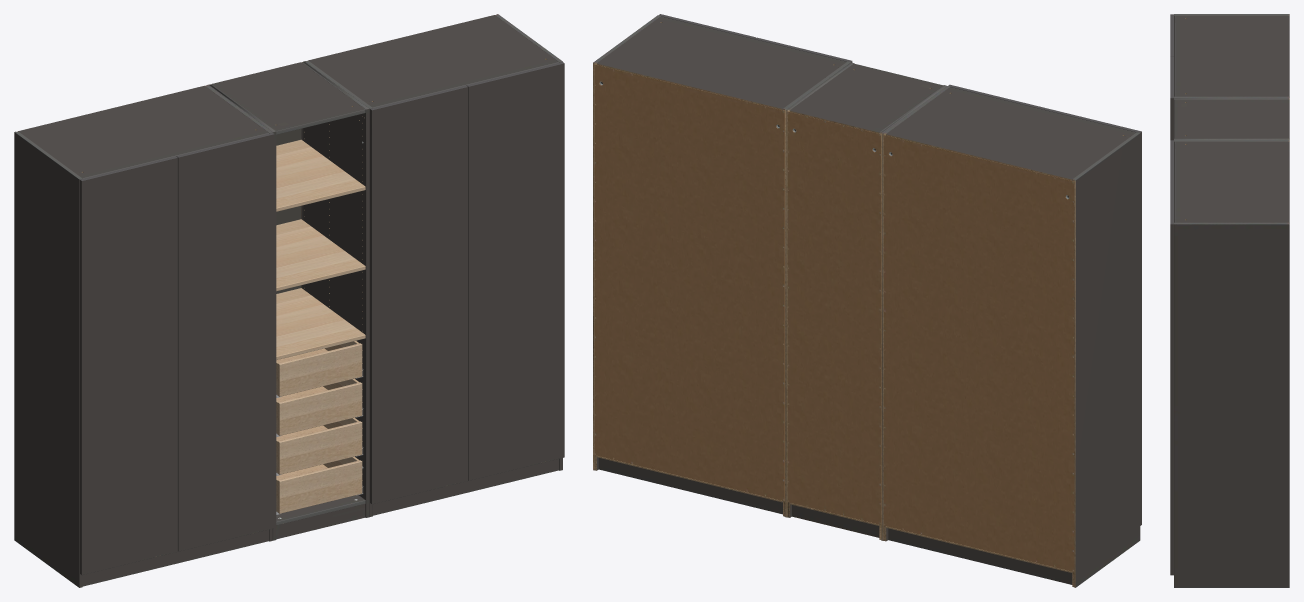
Rendered from 29 - PAX FORSAND Wardrobe combination - dark greywhite stained oak effect dark grey 250x60x201 cm.glb.
The picture shows the model from 3 angles, left to right: view 1: azimuth 30°, elevation 25°; view 2: azimuth 150°, elevation 25°; view 3: azimuth 270°, elevation 25°; orthographic projection. The views are drawn at different scales.
Parts seen in each view (by area): view 1: 80509122-PAX001, 40510924-FORSAND001.003, 40510924-FORSAND001.001, 40510924-FORSAND001, 40510924-FORSAND001.002, model, 80509122-PAX001.001, 49429887_wardrobe_combination_primitive3, 49429887_wardrobe_combination_primitive10; view 2: 80509122-PAX001, 80509122-PAX001.001, model, 40510924-FORSAND001.001; view 3: 80509122-PAX001.001, 80509122-PAX001, model, 40510924-FORSAND001.002, 40510924-FORSAND001.
Part boxes in pixels (bbox=[...]): 80509122-PAX001: bbox=[14, 85, 272, 587]; 40510924-FORSAND001.003: bbox=[370, 85, 467, 504]; 40510924-FORSAND001.001: bbox=[80, 156, 177, 574]; 40510924-FORSAND001: bbox=[176, 132, 274, 551]; 40510924-FORSAND001.002: bbox=[466, 62, 564, 480]; model: bbox=[208, 61, 369, 540]; 80509122-PAX001.001: bbox=[305, 14, 562, 517]; 49429887_wardrobe_combination_primitive3: bbox=[276, 341, 362, 513]; 49429887_wardrobe_combination_primitive10: bbox=[276, 139, 365, 359]; 80509122-PAX001: bbox=[882, 86, 1140, 587]; 80509122-PAX001.001: bbox=[593, 15, 850, 517]; model: bbox=[786, 62, 946, 540]; 40510924-FORSAND001.001: bbox=[1044, 108, 1141, 525]; 80509122-PAX001.001: bbox=[1174, 140, 1289, 587]; 80509122-PAX001: bbox=[1174, 14, 1289, 97]; model: bbox=[1174, 98, 1289, 139]; 40510924-FORSAND001.002: bbox=[1170, 182, 1173, 575]; 40510924-FORSAND001: bbox=[1170, 56, 1173, 140].
Size of the model in its own units: 2.49 by 2.01 by 0.5979.
11 materials, 7 textured.
